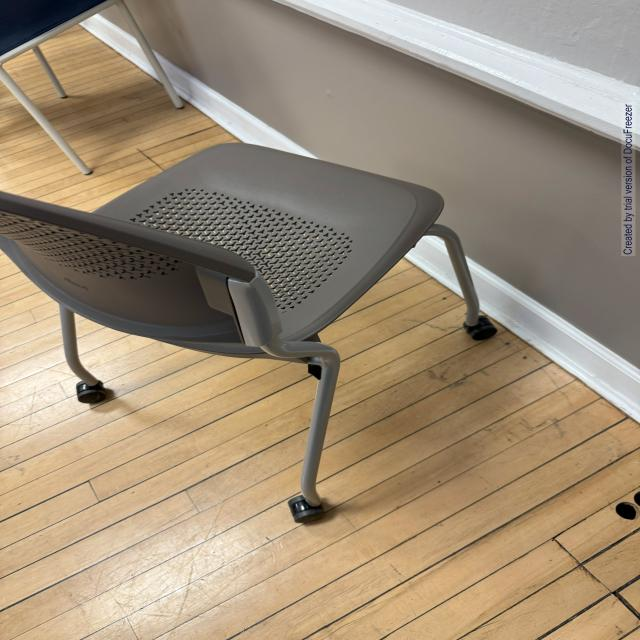chair: (0, 127, 512, 543)
